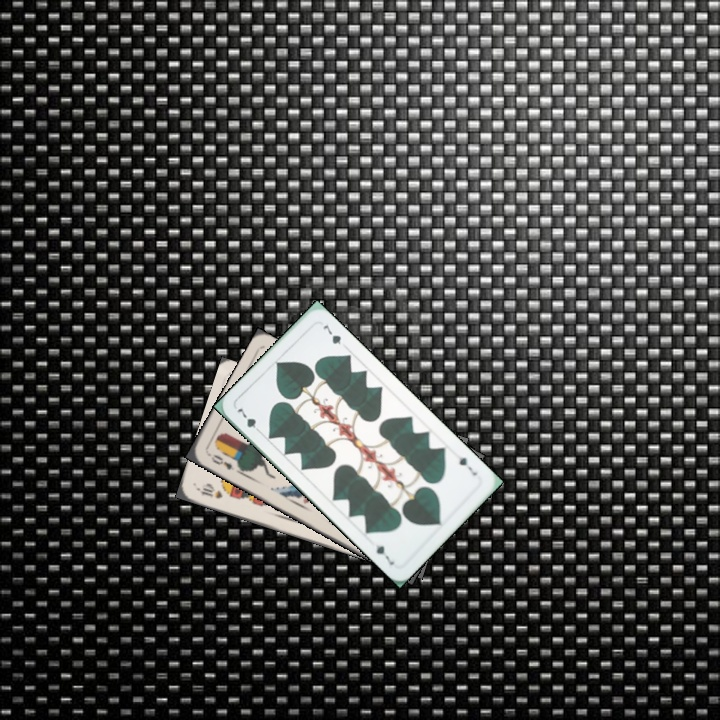EO: (204, 449, 237, 473)
G7: (233, 403, 264, 436), (455, 453, 480, 478)
S10: (193, 481, 225, 501)
